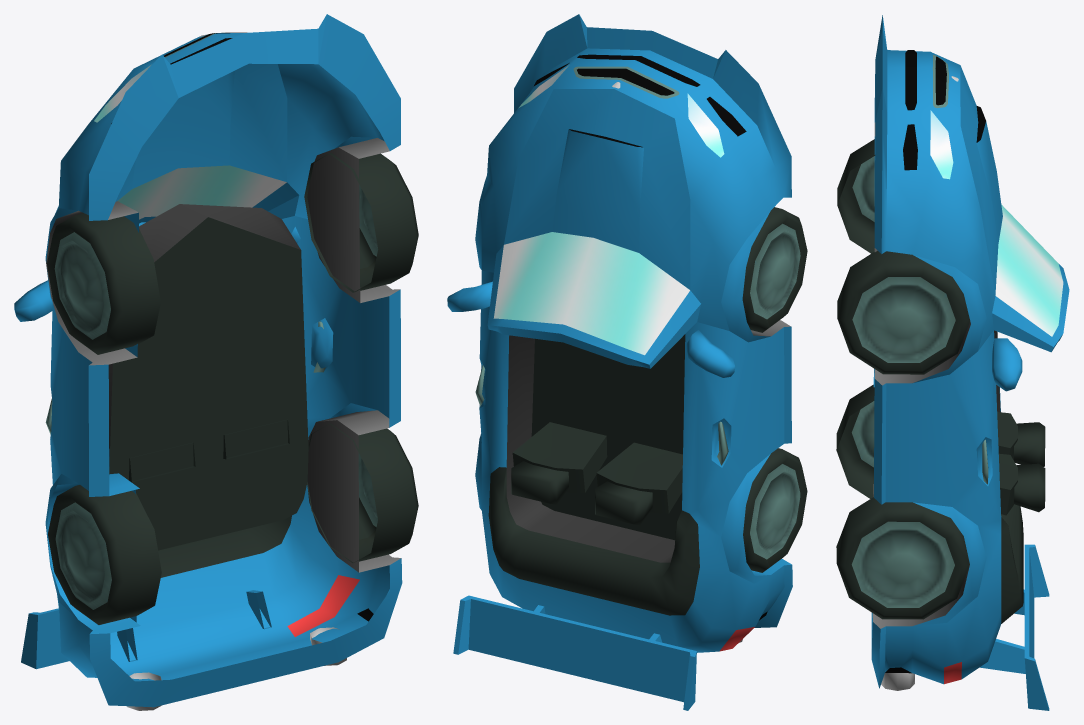
Rendered from car2.fbx.
3 renders of one model, left to right at view 1: azimuth 30°, elevation 25°; view 2: azimuth 150°, elevation 25°; view 3: azimuth 270°, elevation 25°, orthographic. The views are drawn at different scales.
Parts seen in each view (by area): view 1: Car2; view 2: Car2; view 3: Car2.
Boxes of the visible parts, x1,y1,x2,y2 form: Car2: (14, 14, 418, 710); Car2: (447, 14, 807, 710); Car2: (836, 15, 1069, 710).
Size of the model in its own units: 98.89 by 68.32 by 195.
